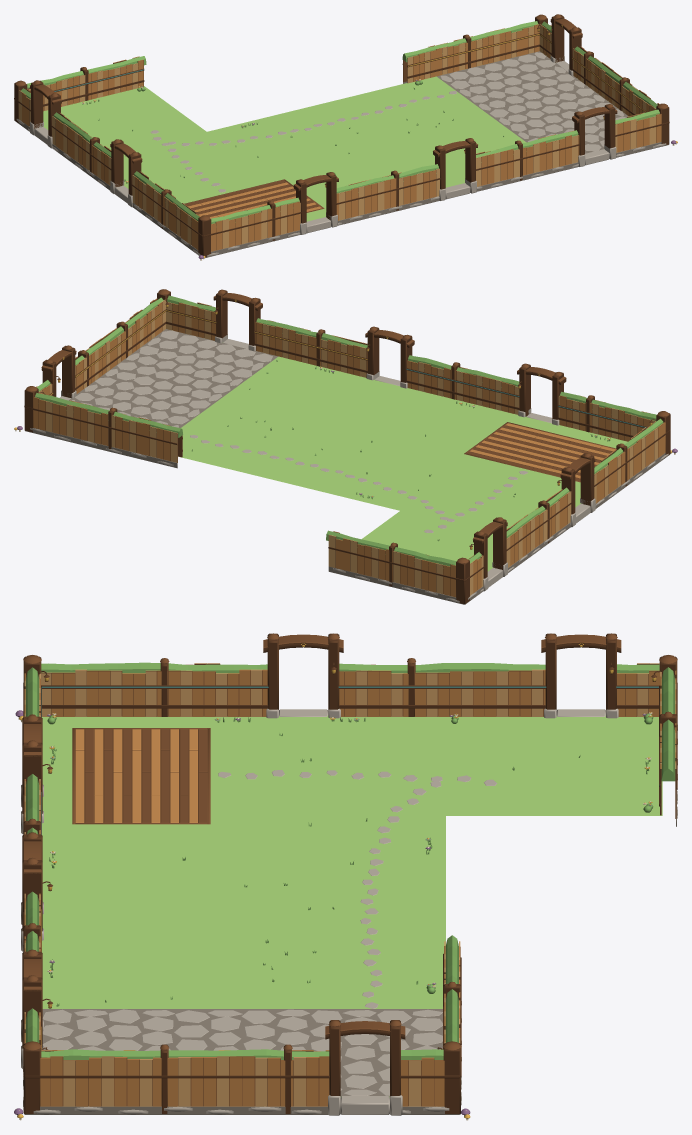
The model's file is ShopYard.fbx.
The picture shows the model from 3 angles, top to bottom: view 1: azimuth 30°, elevation 25°; view 2: azimuth 150°, elevation 25°; view 3: azimuth 270°, elevation 25°; orthographic projection. The views are drawn at different scales.
Parts seen in each view (by area): view 1: ShopYard; view 2: ShopYard; view 3: ShopYard.
Boxes of the visible parts, bbox=[...] form: ShopYard: bbox=[14, 14, 677, 260]; ShopYard: bbox=[14, 289, 677, 604]; ShopYard: bbox=[14, 633, 677, 1120].
Bounding box in the file's own units: 31 × 3.25 × 21.52.
